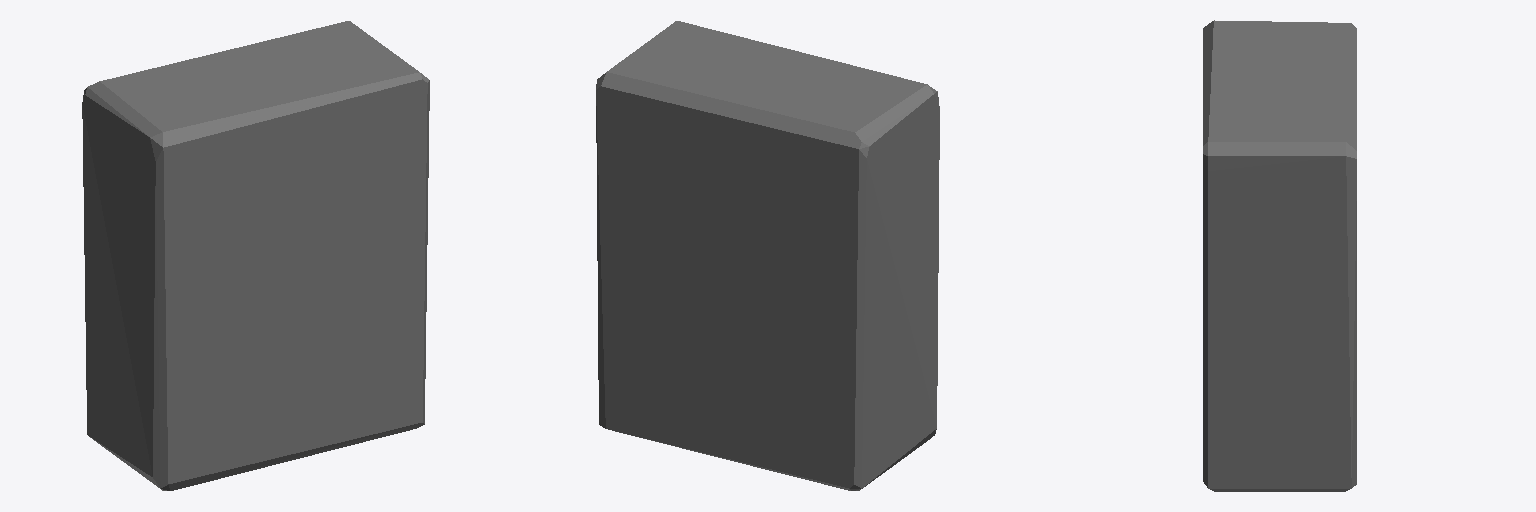
The robot description file, URDF, robot "tetra_pak_011":
<?xml version="1.0" ?>
<robot name="tetra_pak_011">
  <material name="color">
    <color rgba=".5 .5 .5 1"/>
  </material>

  <link name="base_link">
    <contact>
      <lateral_friction value="1.0"/>
      <rolling_friction value="0.001"/>
      <spinning_friction value="0.001"/>
      <inertia_scaling value="1.0"/>
    </contact>
    <inertial>
      <origin rpy="0 0 0" xyz="0.0155876 -0.0182634 1.11611e-05"/>
       <mass value="0.1"/>
       <inertia ixx="1" ixy="0" ixz="0" iyy="1" iyz="0" izz="1"/>
    </inertial>

    <visual>
      <origin rpy="0 0 0" xyz="0 0 0"/>
      <geometry>
        <mesh filename="tetra_pak_011_vhacd_0_of_1.obj" scale="1 1 1"/>
      </geometry>
      <material name="color"/>
    </visual>

    <collision>
      <origin rpy="0 0 0" xyz="0 0 0"/>
      <geometry>
        <mesh filename="tetra_pak_011_vhacd_0_of_1.obj" scale="1 1 1"/>
      </geometry>
    </collision>

  </link>
</robot>

--- Facts derived from the render (not from the file) ---
3 views of the same robot in one strip: view 1: azimuth 30°, elevation 25°; view 2: azimuth 150°, elevation 25°; view 3: azimuth 270°, elevation 25° (orthographic).
Model tetra_pak_011 with 1 links and 0 joints (none), rooted at base_link, posed every joint at zero.
Links seen in each view (by area): view 1: base_link; view 2: base_link; view 3: base_link.
Link boxes in pixels (x1,y1,x2,y2): base_link: (82, 21, 429, 490); base_link: (596, 21, 939, 490); base_link: (1203, 20, 1356, 491).
Bounding box of the posed robot: 0.0661 × 0.033 × 0.0826 m (x, y, z).
Meshes: 1 distinct files referenced, 1 mesh visuals loaded (1 OBJ).